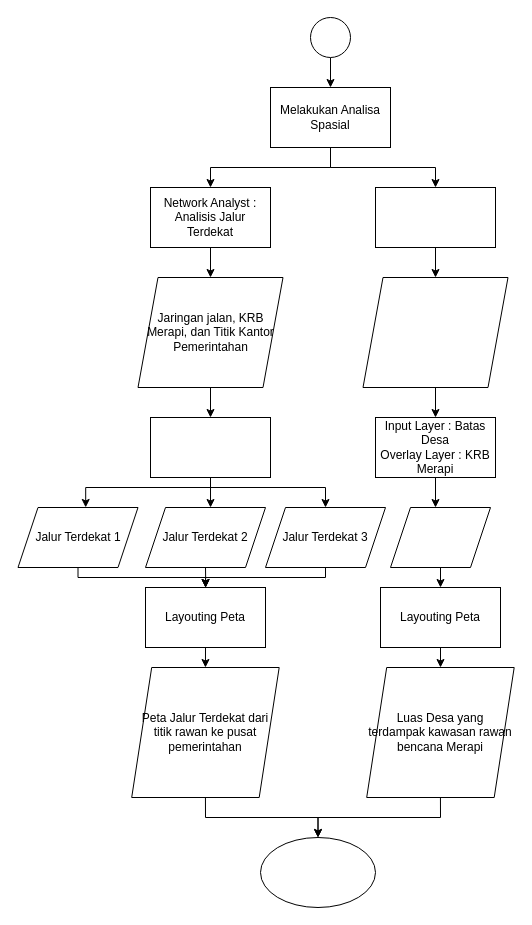
The diagram is 532 pixels wide and 925 high, and some of its shapes have lost their labels. The centre of each missing label's shape, as x and y in pixels:
Batas Desa Clipped: pixel 440 537
Batas Desa, KRB Merapi: pixel 435 332
Overlay : Clip Object: pixel 435 217
Piluh Shortest path dan pilih titik awal serta akhir: pixel 210 447
Selesai: pixel 318 872
